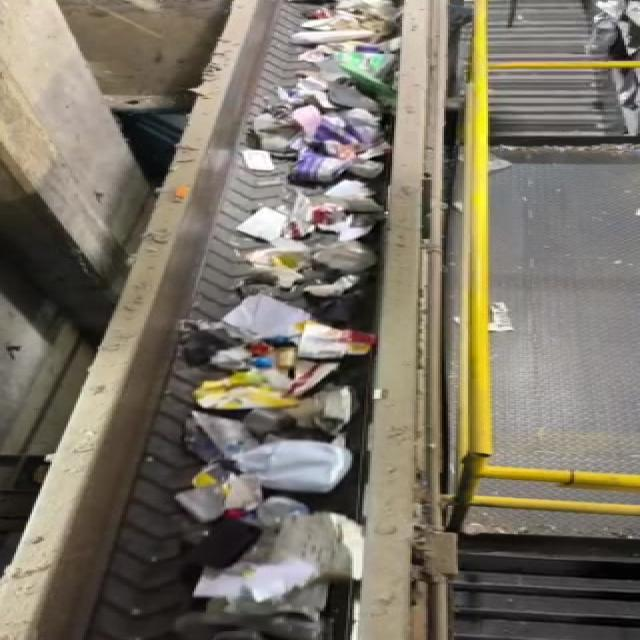hdpe: (208, 442, 374, 494)
paper: (276, 503, 368, 582)
pp: (187, 512, 261, 572), (304, 375, 362, 430)
